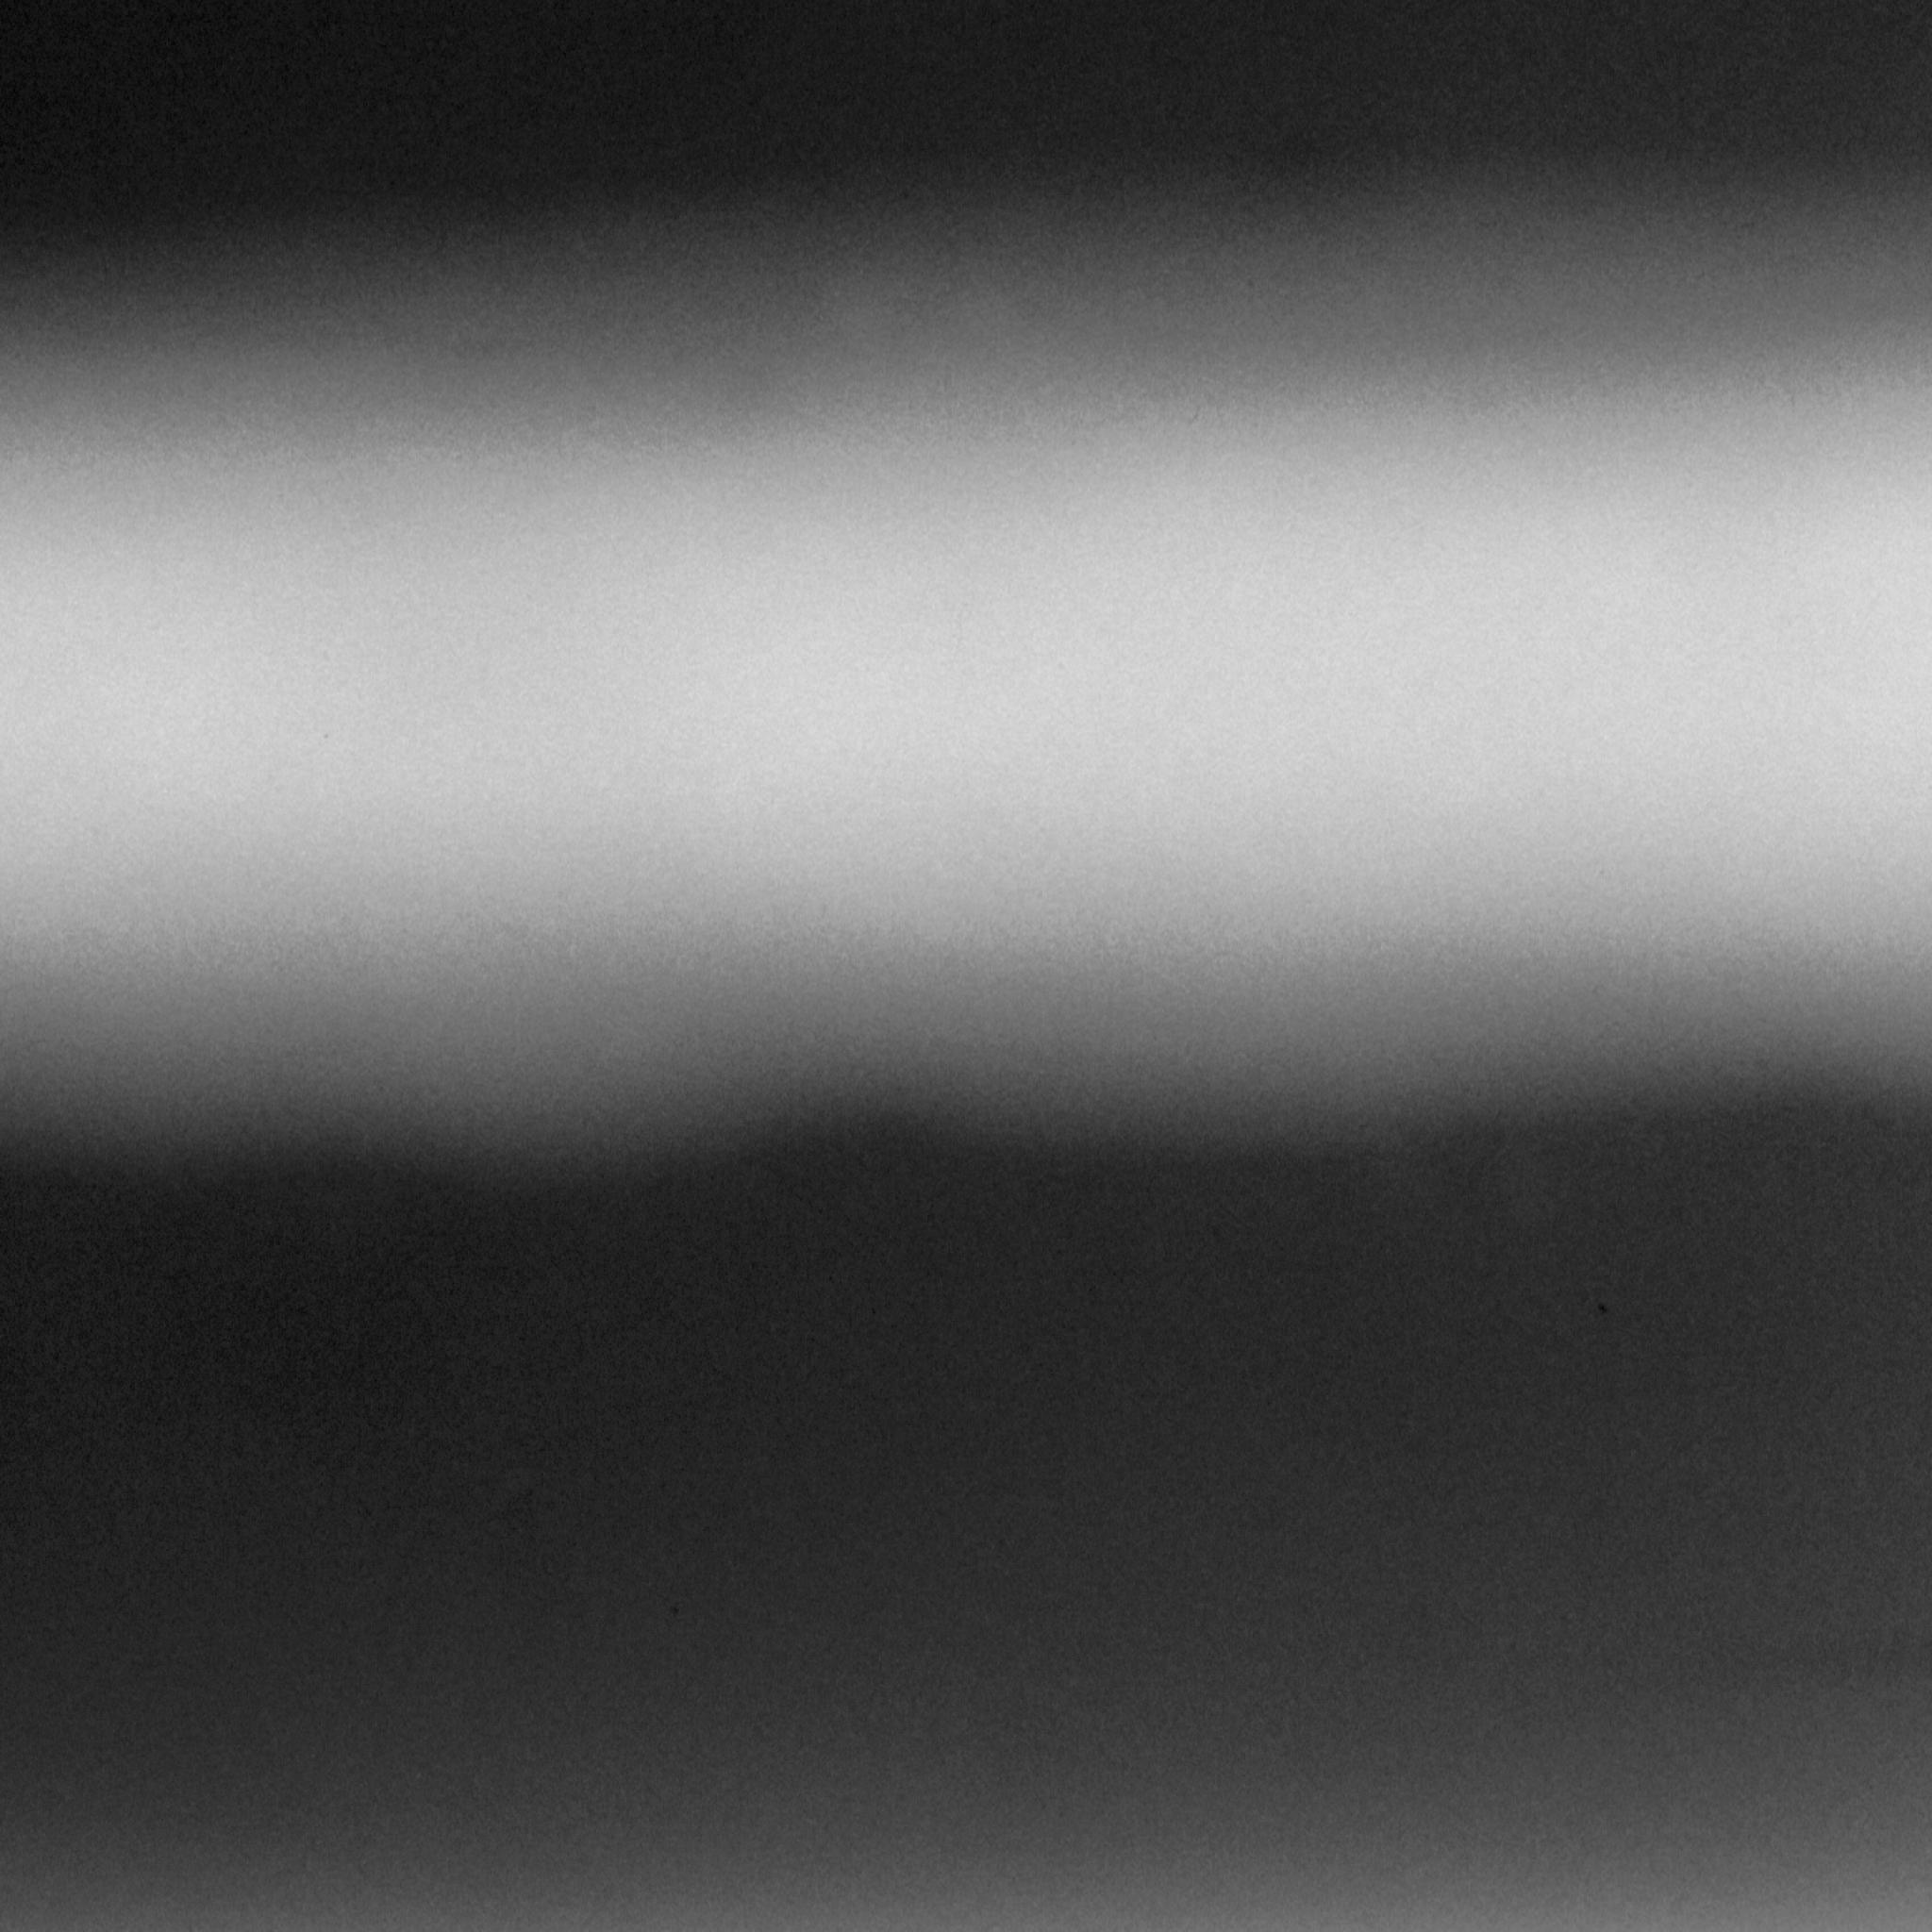PO: (1566, 1272, 1638, 1343), (644, 1580, 701, 1651)
